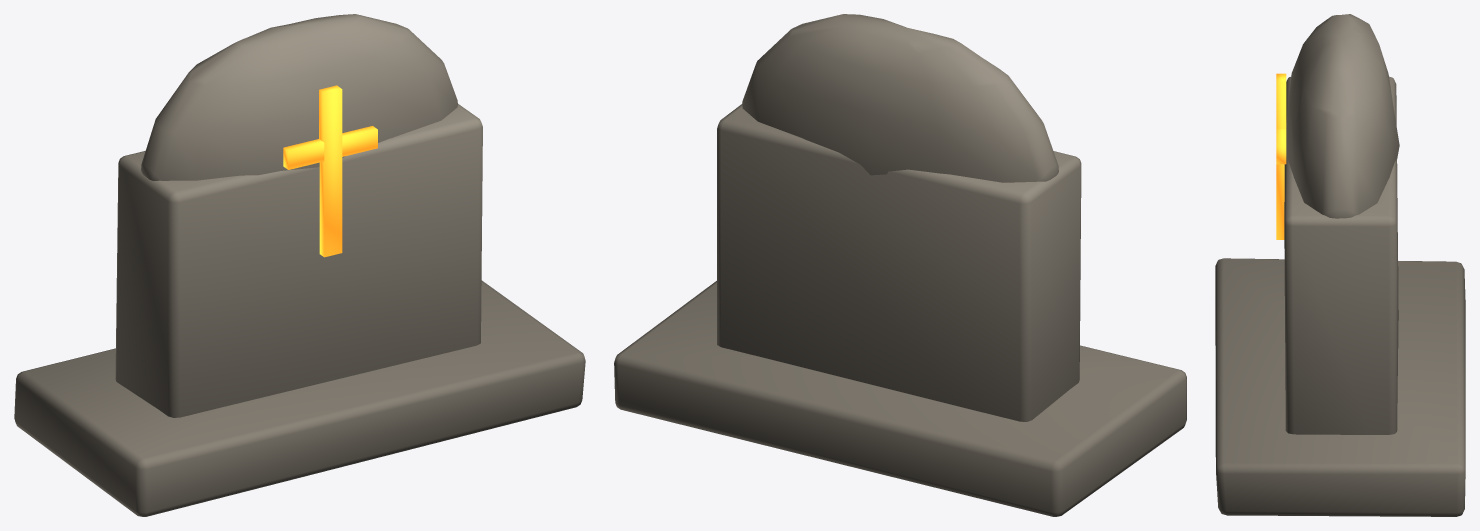
The model's file is gravestone.glb.
The picture shows the model from 3 angles, left to right: view 1: azimuth 30°, elevation 25°; view 2: azimuth 150°, elevation 25°; view 3: azimuth 270°, elevation 25°; orthographic projection. The views are drawn at different scales.
Parts seen in each view (by area): view 1: grave, grave_rune; view 2: grave; view 3: grave, grave_rune.
Boxes of the visible parts, left/top/right/bottom form: grave: left=14, top=14, right=585, bottom=516; grave_rune: left=283, top=85, right=377, bottom=257; grave: left=614, top=14, right=1186, bottom=516; grave: left=1215, top=14, right=1465, bottom=516; grave_rune: left=1276, top=73, right=1286, bottom=239.
Size of the model in its own units: 2.01 by 1.68 by 1.01.
